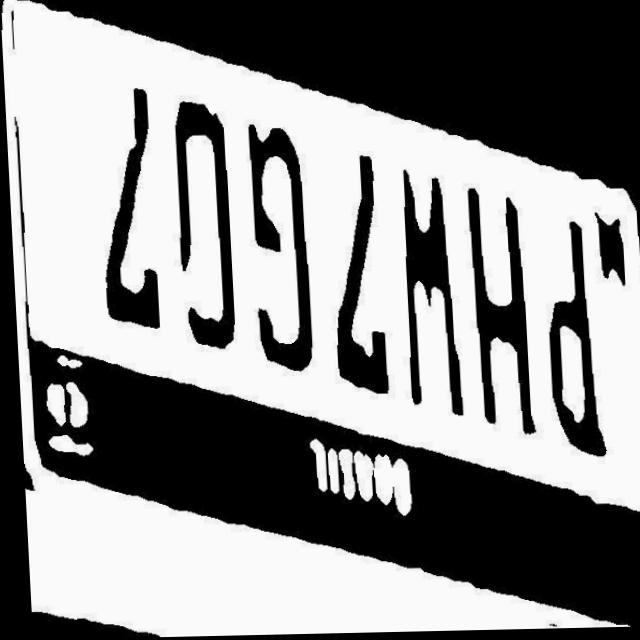0: (162, 95, 247, 370)
7: (295, 122, 396, 413), (87, 72, 165, 333)
g: (222, 84, 309, 388)
h: (454, 145, 532, 435)
p: (532, 141, 619, 457)
w: (377, 132, 458, 423)
